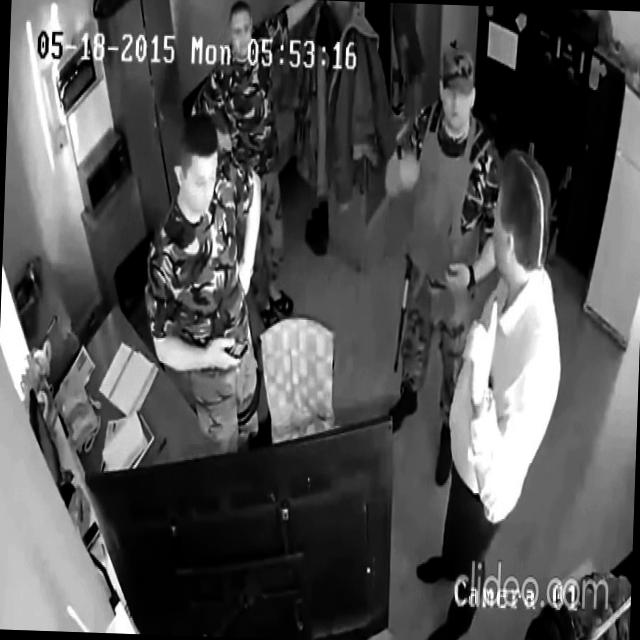gun: (542, 110, 584, 264), (394, 250, 416, 372)
person: (412, 142, 569, 640), (138, 110, 270, 458), (180, 0, 319, 326)
person with a gun: (372, 41, 507, 488)
